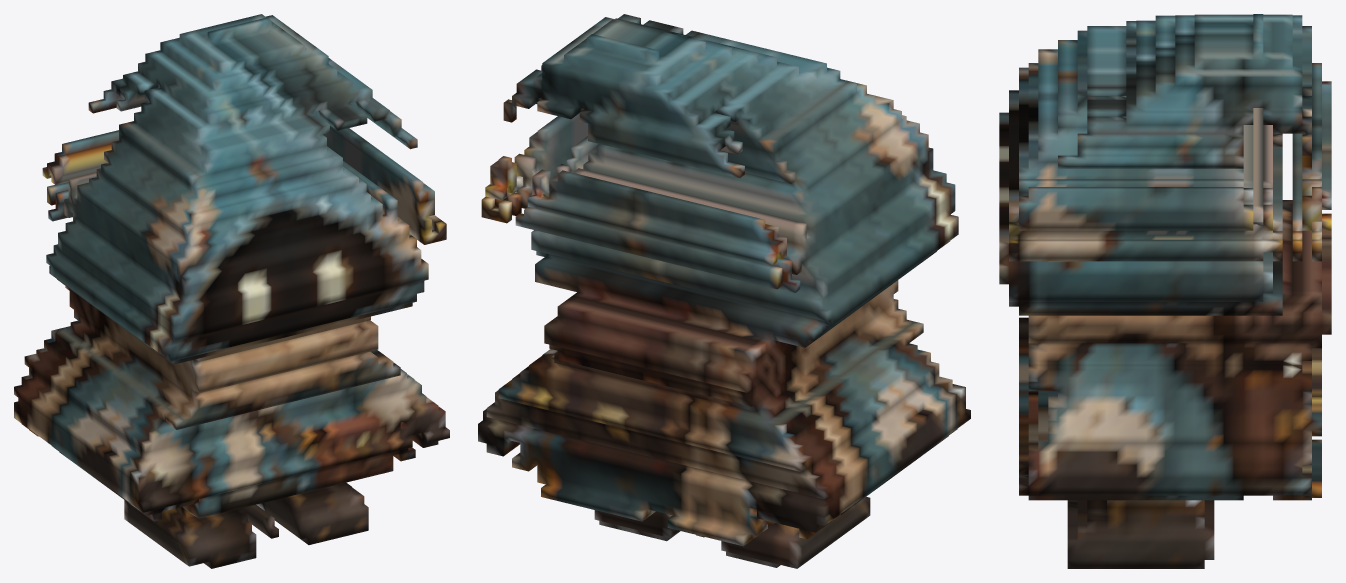
File: sheet1_L4.glb
3 views of the same model, side by side, from view 1: azimuth 30°, elevation 25°; view 2: azimuth 150°, elevation 25°; view 3: azimuth 270°, elevation 25° (orthographic). The views are drawn at different scales.
Parts seen in each view (by area): view 1: BPT_sheet1_L4; view 2: BPT_sheet1_L4; view 3: BPT_sheet1_L4.
Part boxes in pixels (left/top/right/bottom): BPT_sheet1_L4: left=14, top=14, right=449, bottom=568; BPT_sheet1_L4: left=478, top=14, right=970, bottom=568; BPT_sheet1_L4: left=999, top=14, right=1331, bottom=568.
Size of the model in its own units: 1.41 by 2 by 1.17.
